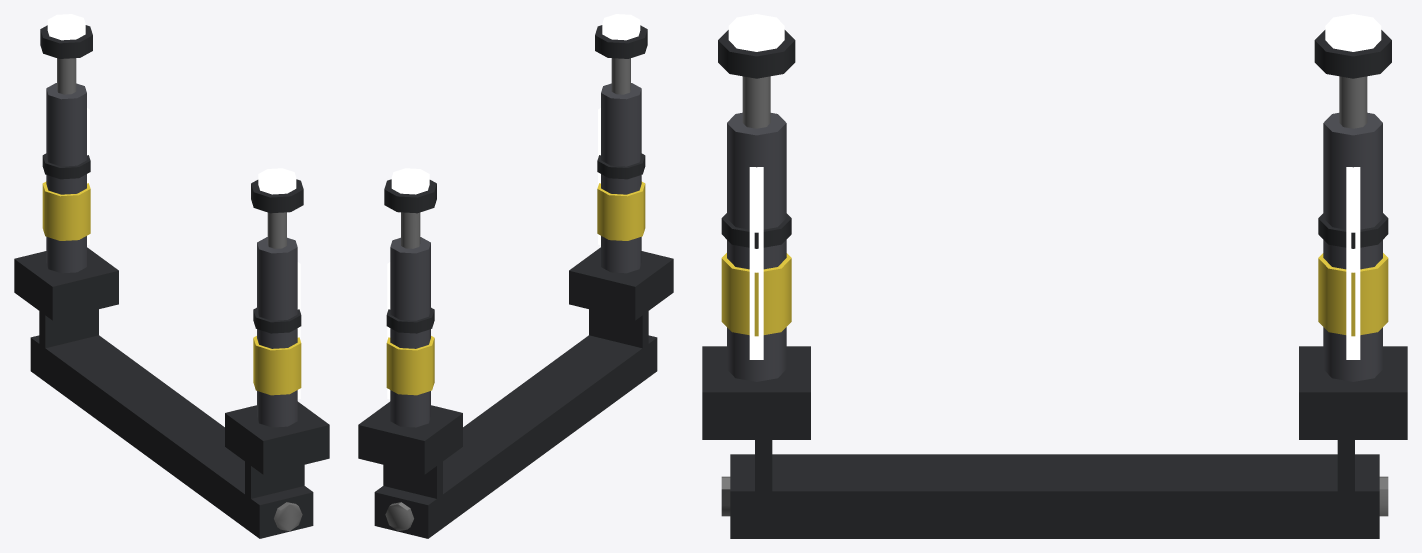
Rendered from Relay_Retract_Pylons_v2.glb.
3 renders of one model, left to right at view 1: azimuth 30°, elevation 25°; view 2: azimuth 150°, elevation 25°; view 3: azimuth 270°, elevation 25°, orthographic. The views are drawn at different scales.
Parts seen in each view (by area): view 1: Relay_Retract_Pylons_v2; view 2: Relay_Retract_Pylons_v2; view 3: Relay_Retract_Pylons_v2.
Part boxes in pixels (<box>): Relay_Retract_Pylons_v2: <box>14,14,329,538</box>; Relay_Retract_Pylons_v2: <box>358,14,673,538</box>; Relay_Retract_Pylons_v2: <box>702,14,1407,538</box>.
Size of the model in its own units: 0.62 by 3.11 by 4.02.
